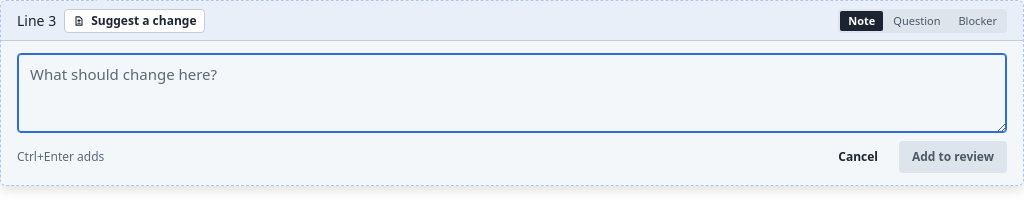
Test: suggesting a replacement › will not start a second suggestion in one comment
Click the button with test id "suggest-change": [135, 21] box [64, 9, 206, 33]
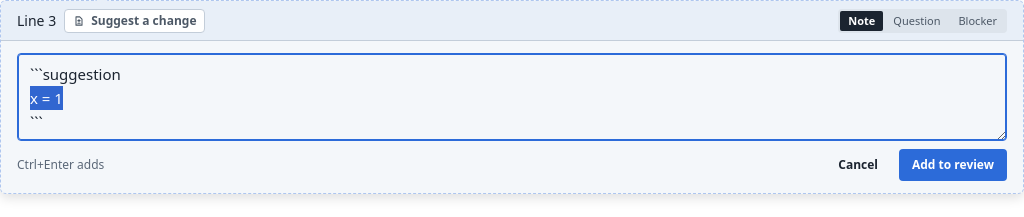
Check: the button with test id "suggest-change" is disabled, box [64, 9, 206, 33]
